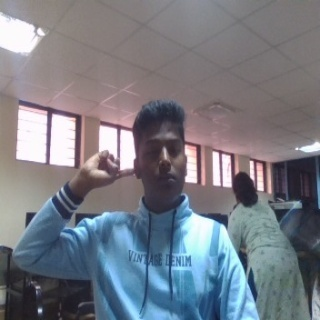Deaf: (76, 148, 139, 189)
Face: (132, 99, 189, 204)
